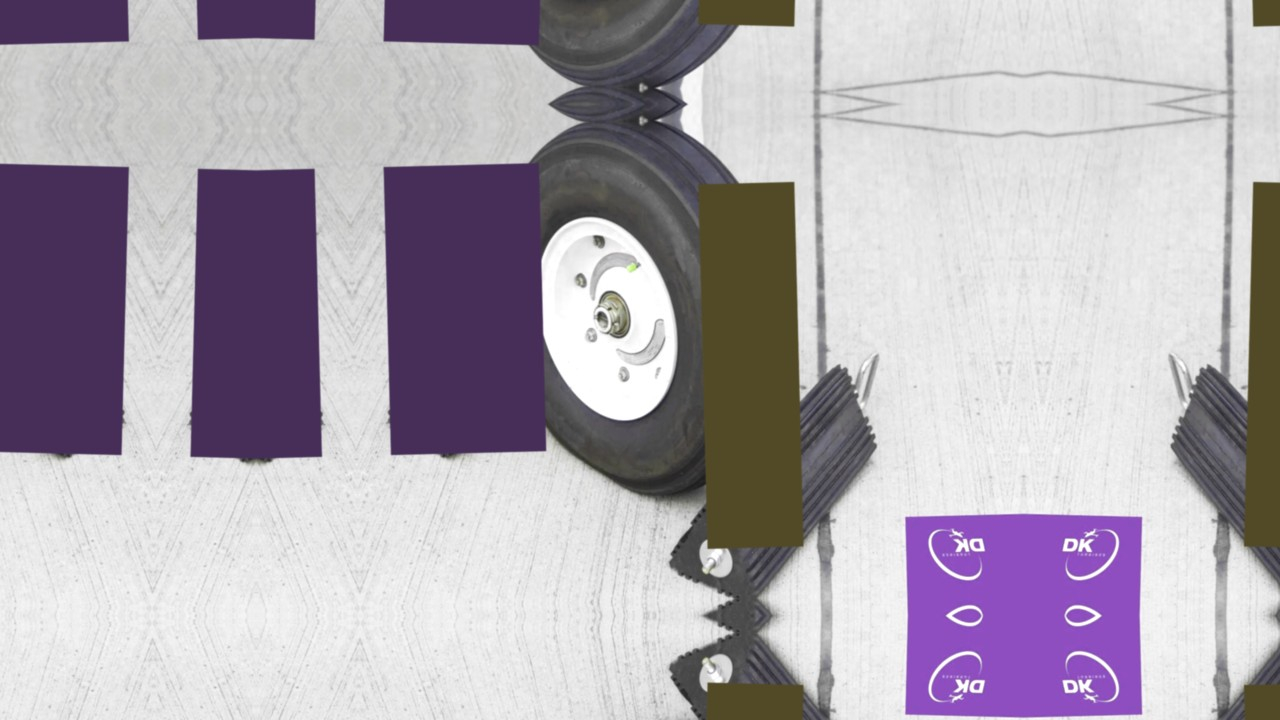chock: (663, 362, 882, 601), (384, 306, 590, 460), (1166, 362, 1280, 601), (0, 306, 128, 460), (663, 631, 882, 720), (187, 313, 256, 466), (256, 313, 325, 466), (1166, 631, 1280, 720)
wheel: (492, 118, 794, 503), (492, 0, 794, 90)
